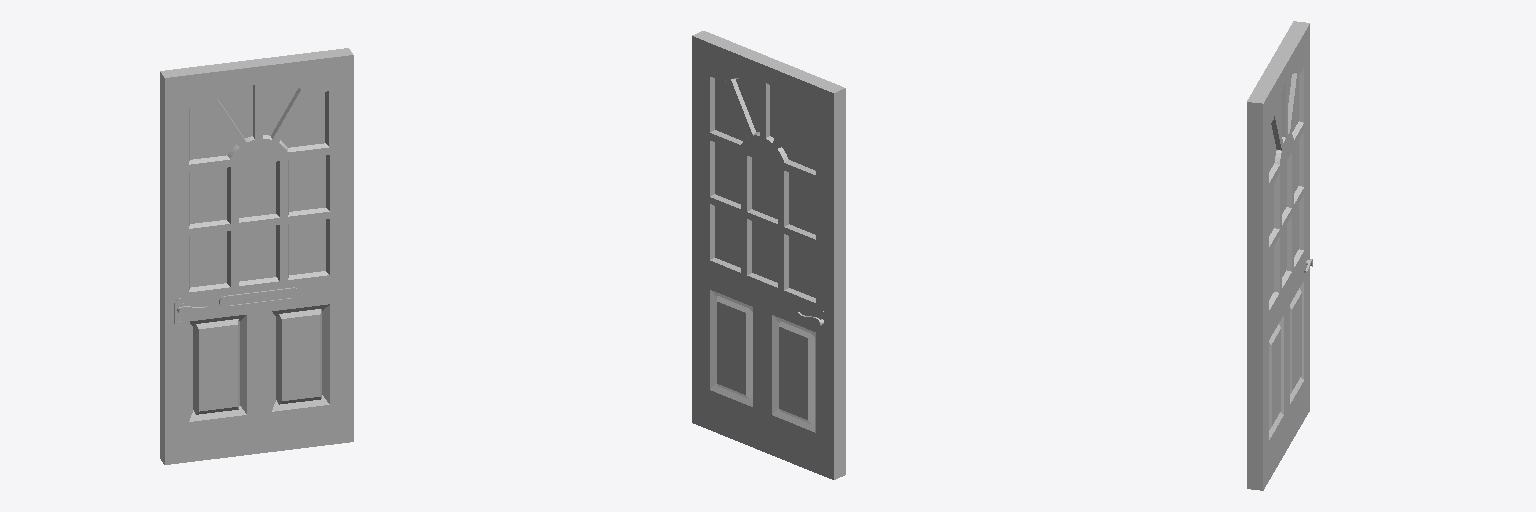
Rendered from door_000015.obj.
3 views of the same model, side by side, from view 1: azimuth 30°, elevation 25°; view 2: azimuth 150°, elevation 25°; view 3: azimuth 270°, elevation 25° (orthographic).
Visible parts, largest first — view 1: Door.003; view 2: Door.003; view 3: Door.003.
Part boxes in pixels (left/top/right/bottom): Door.003: left=160, top=48, right=353, bottom=464; Door.003: left=692, top=31, right=845, bottom=479; Door.003: left=1247, top=21, right=1312, bottom=490.
Bounding box in the file's own units: 0.7336 × 1.6 × 0.251.